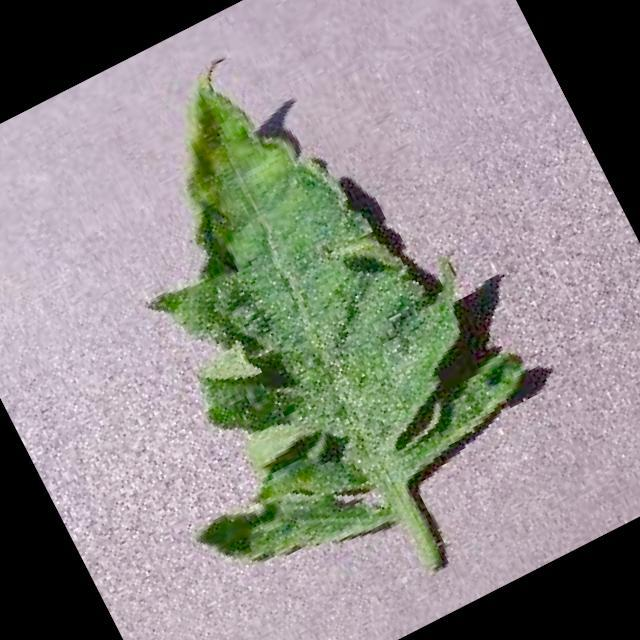Tomato mosaic virus leaf: (0, 0, 561, 611)
